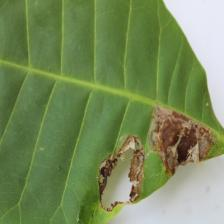leaf miner: (0, 0, 224, 224), (97, 134, 145, 212)
